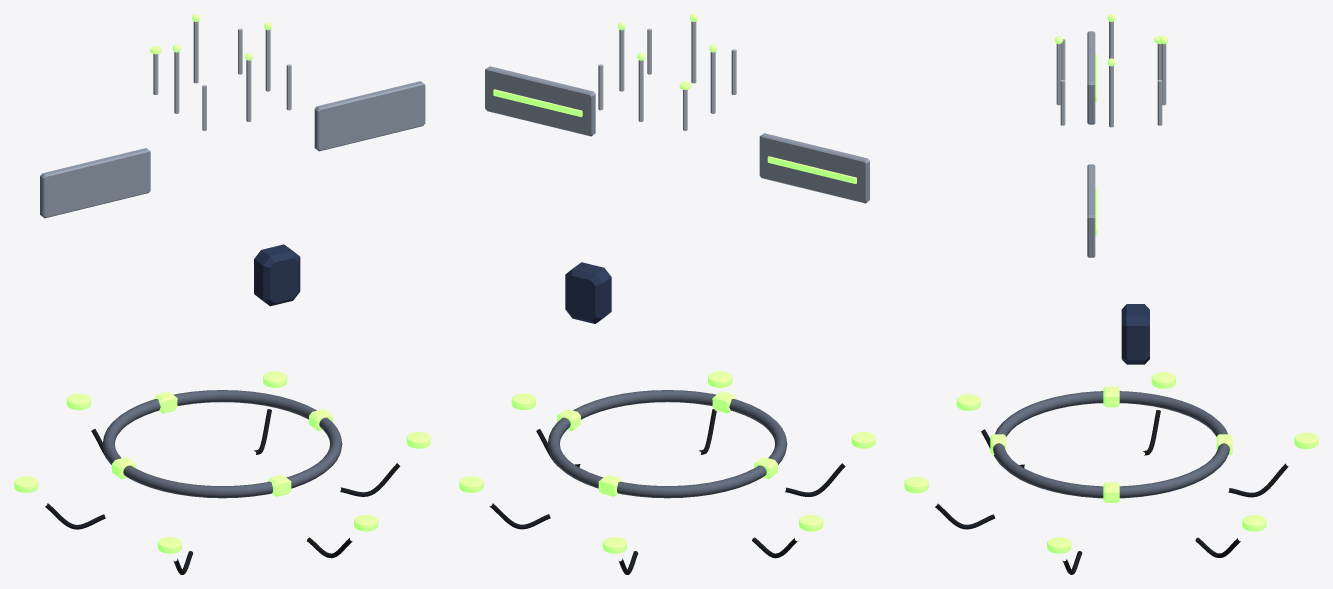
File: tower_detector_field_s7.glb
The picture shows the model from 3 angles, left to right: view 1: azimuth 30°, elevation 25°; view 2: azimuth 150°, elevation 25°; view 3: azimuth 270°, elevation 25°; orthographic projection.
Parts seen in each view (by area): view 1: detector_base_ring, detector_wing_l, detector_wing_r, detector_relay; view 2: detector_base_ring, detector_wing_l, detector_wing_r, detector_relay, detector_wing_glow_l, detector_wing_glow_r; view 3: detector_base_ring, detector_relay, detector_wing_l, detector_wing_r.
Boxes of the visible parts, x1,y1,x2,y2 form: detector_base_ring: [102, 390, 342, 498]; detector_wing_l: [314, 81, 425, 151]; detector_wing_r: [40, 148, 150, 218]; detector_relay: [254, 244, 300, 306]; detector_base_ring: [547, 390, 787, 498]; detector_wing_l: [485, 66, 595, 136]; detector_wing_r: [759, 133, 869, 203]; detector_relay: [565, 262, 611, 323]; detector_wing_glow_l: [493, 89, 582, 117]; detector_wing_glow_r: [767, 156, 856, 183]; detector_base_ring: [993, 391, 1229, 498]; detector_relay: [1121, 304, 1149, 364]; detector_wing_l: [1087, 164, 1095, 257]; detector_wing_r: [1087, 31, 1095, 124].
Size of what is drawn, in the model's own units: 2.17 by 2.6 by 2.05.
